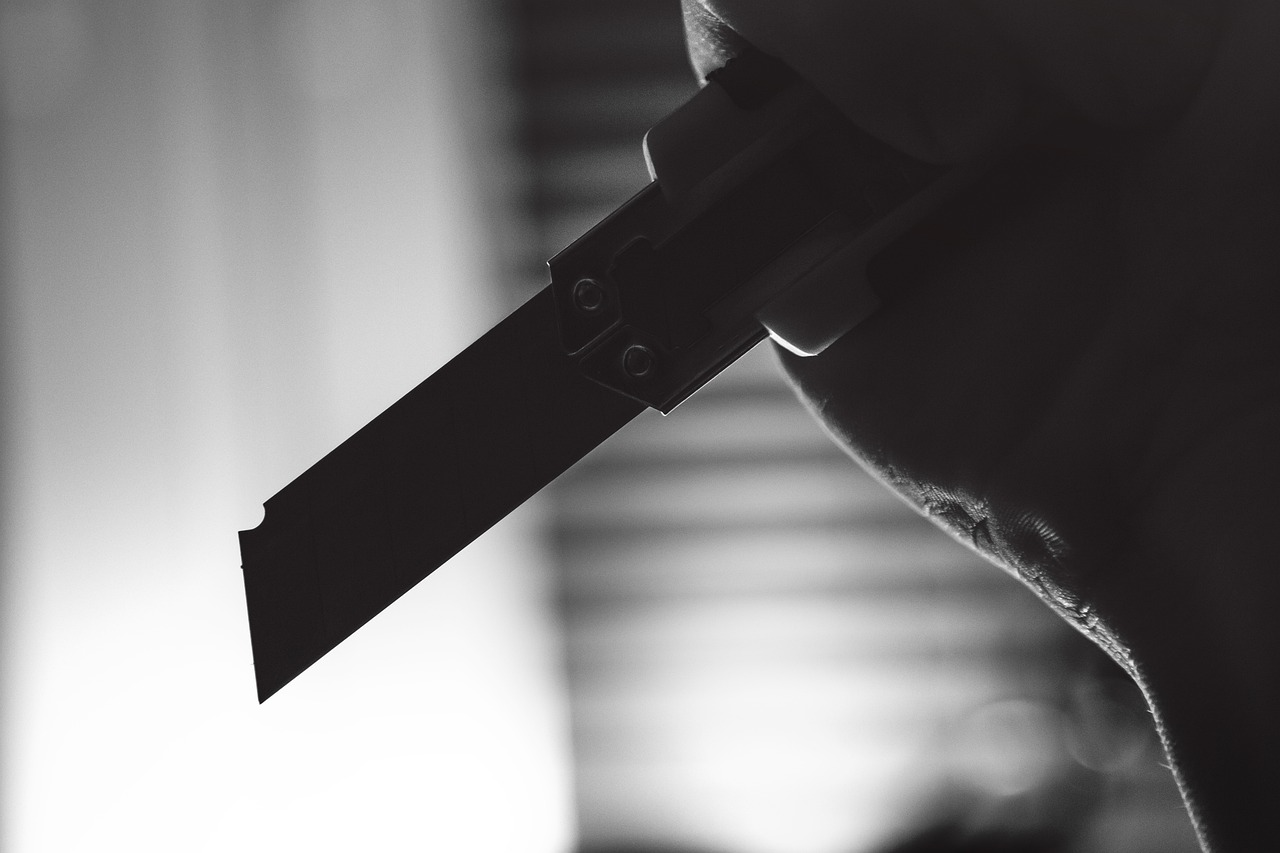knife: (220, 31, 940, 707)
